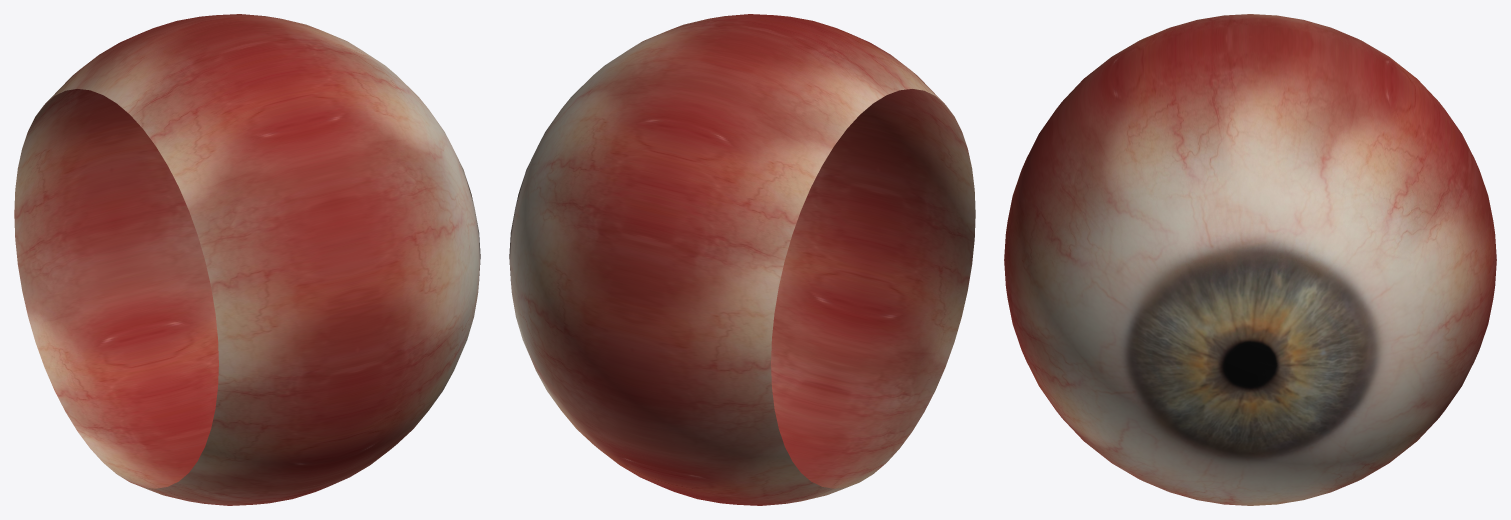
3 renders of one model, left to right at view 1: azimuth 30°, elevation 25°; view 2: azimuth 150°, elevation 25°; view 3: azimuth 270°, elevation 25°, orthographic.
Parts seen in each view (by area): view 1: Round_0; view 2: Round_0; view 3: Round_0.
Part boxes in pixels (box(x1,y1,x2,y2)): Round_0: box(14, 14, 480, 505); Round_0: box(509, 14, 975, 505); Round_0: box(1004, 14, 1496, 505).
Size of the model in its own units: 3.42 by 4.4 by 4.4.
Materials: 1 (1 with a texture image).
